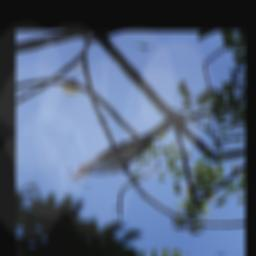Cuckoo: (69, 99, 173, 200)
